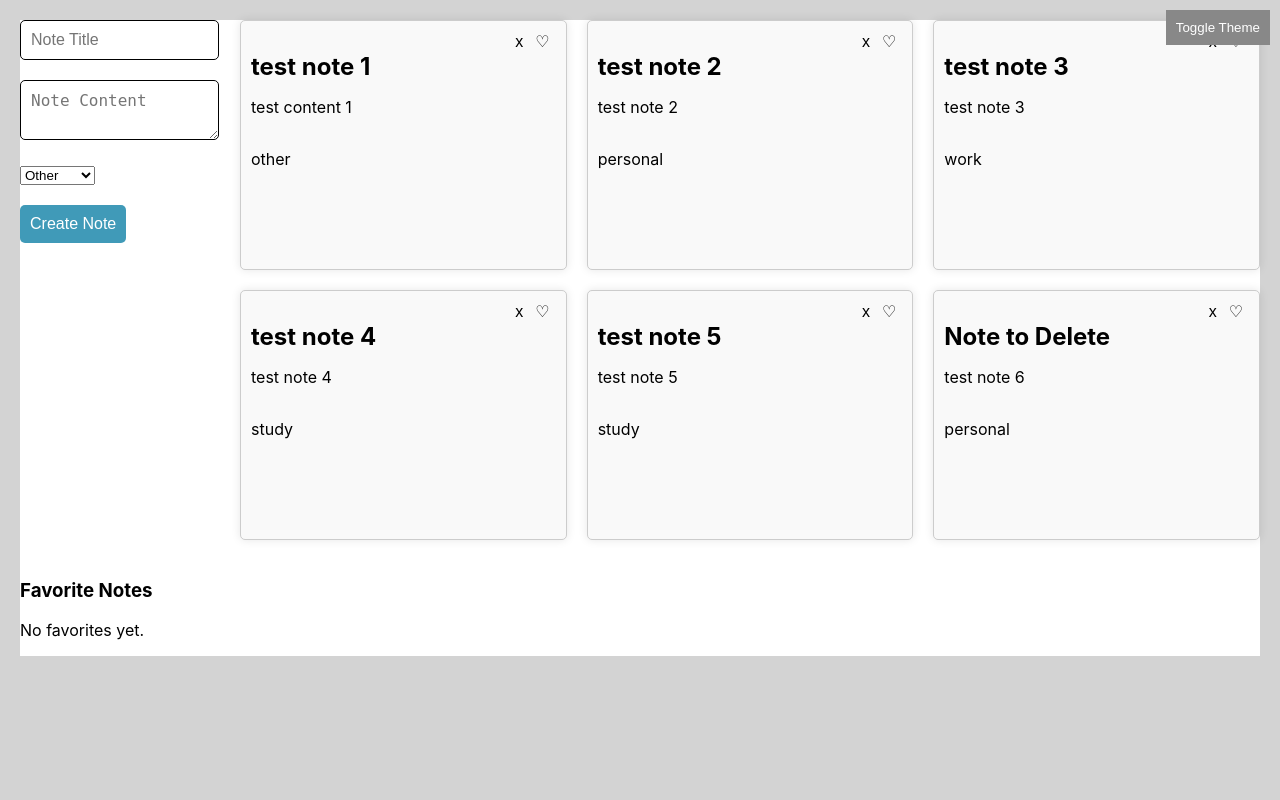
Create StickyNote › should delete a note when the delete button is clicked
The image size is (1280, 800).
What coordinates should you click on to do the following:
click the 5th button "x"
I would click on:
 (1213, 312)
Its box is [1203,301,1223,322].
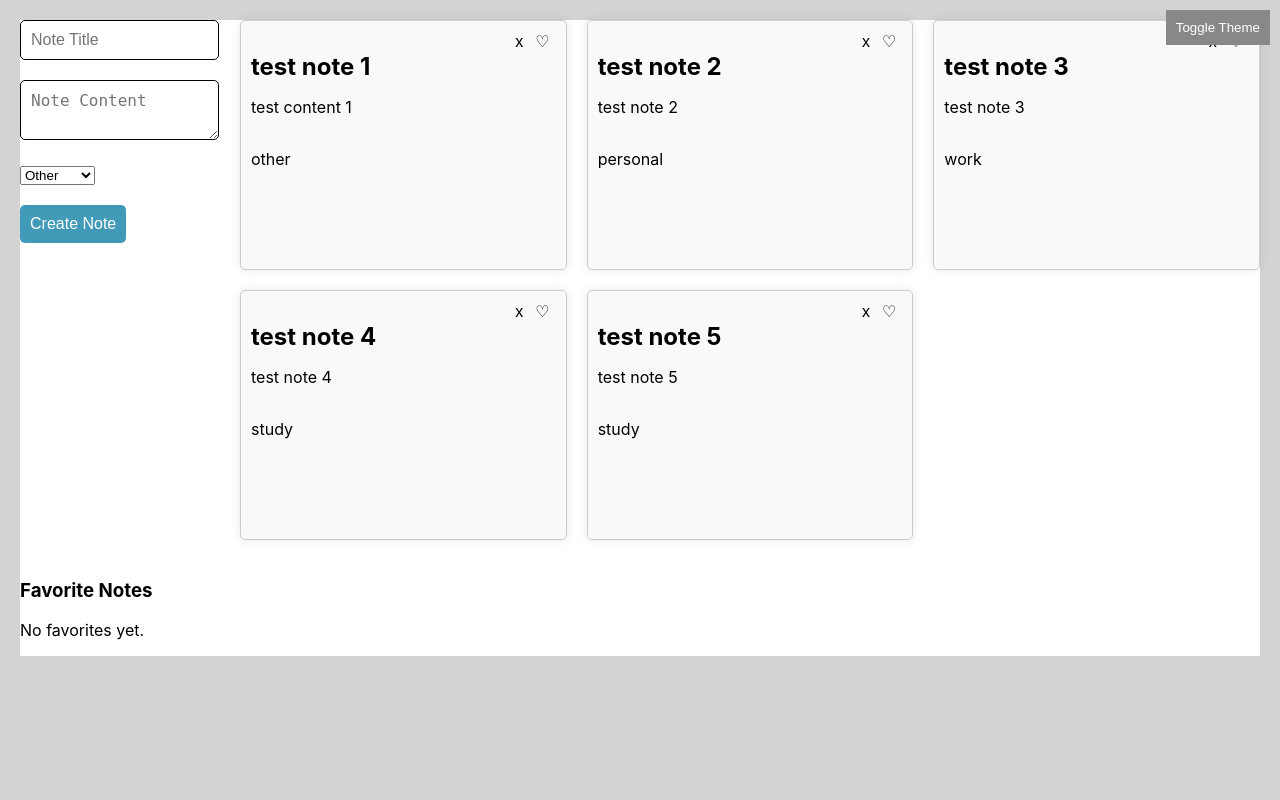
Check: the heading "Note to Delete" is gone
